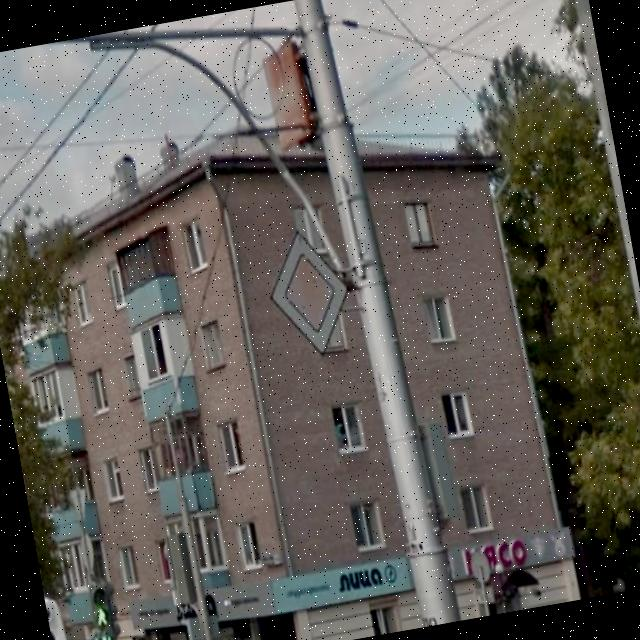Droga z pierwszenstwem: (257, 222, 361, 362)
